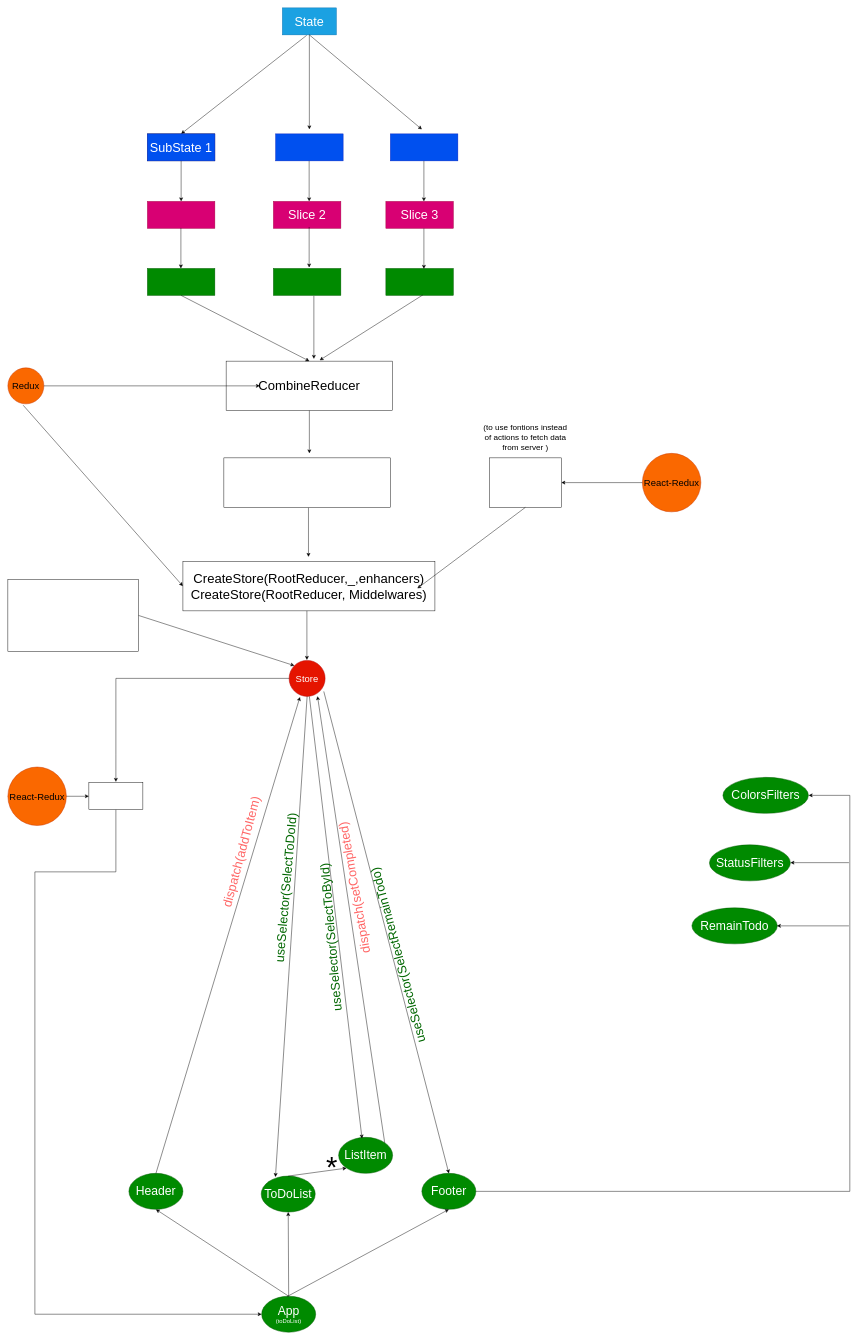
This 861x1340 diagram has some shape labels left out. Here are the shapes that lost their labels. From the top down, the box of each, then its label:
(275, 133, 343, 161): SubState 2
(390, 133, 458, 161): SubState 3
(147, 201, 215, 228): Slice 1
(147, 268, 215, 295): Reducer 1
(273, 268, 341, 295): Reducer 2
(385, 268, 453, 295): Reducer 3
(223, 457, 390, 507): RootReducer
(489, 457, 561, 507): ThunkMiddleware
(7, 579, 138, 651): Store to share between components it allow us to dispatch actions on the state
(88, 782, 143, 810): Provider
